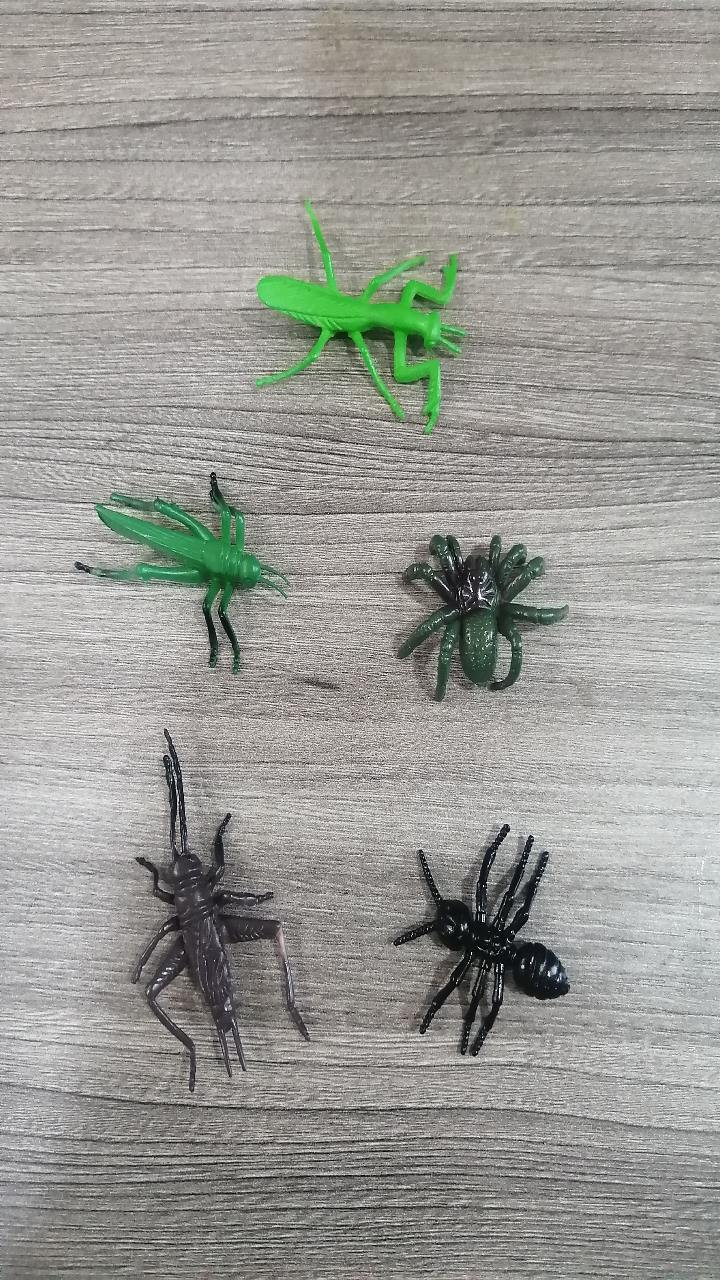intruso: (104, 714, 324, 1086), (232, 172, 474, 442), (380, 809, 608, 1079), (58, 446, 295, 694), (366, 494, 588, 732)
